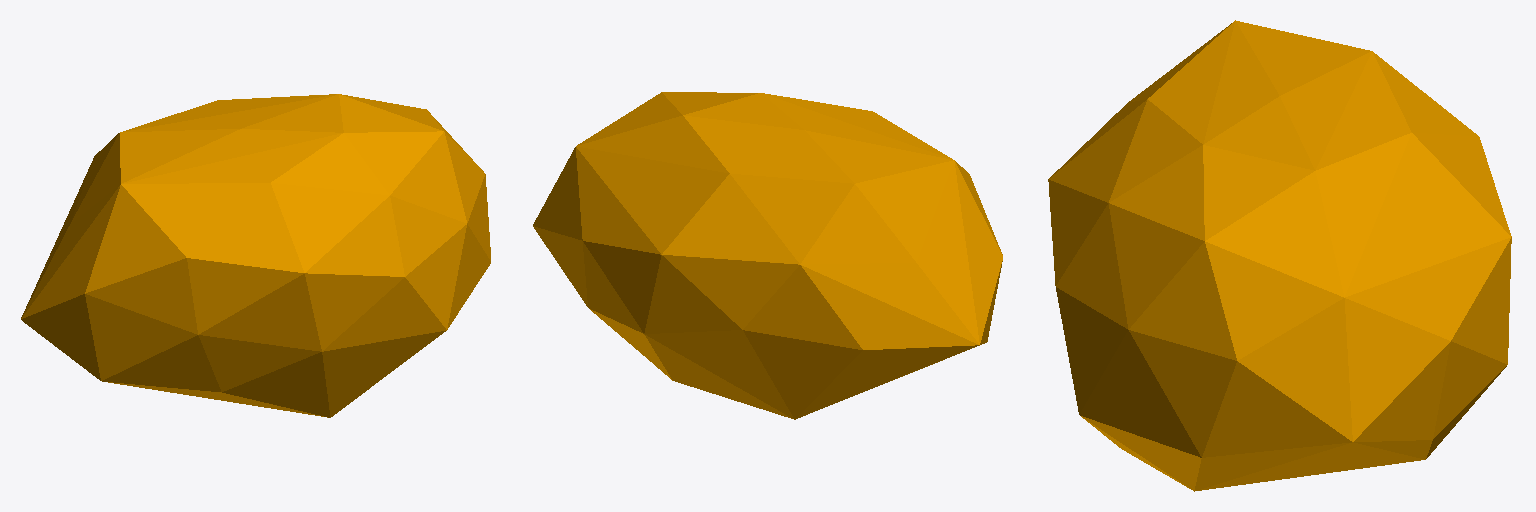
URDF robot description (ic0189):
<?xml version="1.0"?>
<robot name="ic0189">
  <link name="link">
    <contact>
      <lateral_friction value="0.6"/>
    </contact>
    <inertial>
      <mass value = "0.4499359730110752"/>
      <inertia ixx="0.00017449033906139484" ixy="-5.578938942244855e-20" ixz="-2.411066049469565e-20" iyy="0.00027049358424519905" iyz="-1.6944436403216665e-20" izz="0.00029882883649683264" />
    </inertial>
    <visual name="visual">
      <geometry>
        <mesh filename="ic0189.obj"/>
      </geometry>
    </visual>
    <collision name="collision">
      <geometry>
        <mesh filename="ic0189.obj"/>
      </geometry>
    </collision>
  </link>
</robot>

--- What the picture shows (computed from the rendered views, not written in the file) ---
Views: 3 orthographic renders of the robot side by side, from view 1: azimuth 30°, elevation 25°; view 2: azimuth 150°, elevation 25°; view 3: azimuth 270°, elevation 25°.
Model ic0189 with 1 links and 0 joints (none), rooted at link, posed every joint at zero.
Links seen in each view (by area): view 1: link; view 2: link; view 3: link.
Boxes of the visible links, x1,y1,x2,y2 form: link: (21,94,490,417); link: (533,92,1002,419); link: (1048,20,1511,491).
Size in the robot's own frame: 0.1014 by 0.0681 by 0.0566 metres.
1 mesh visuals loaded from 1 distinct referenced files (1 OBJ).
